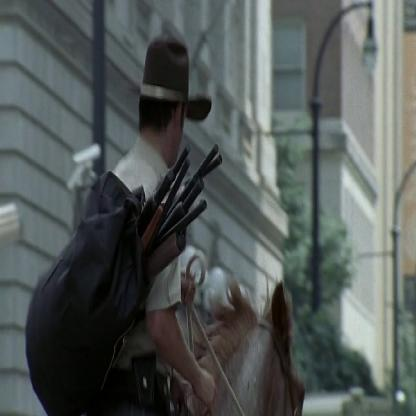Guns: (126, 136, 224, 280)
